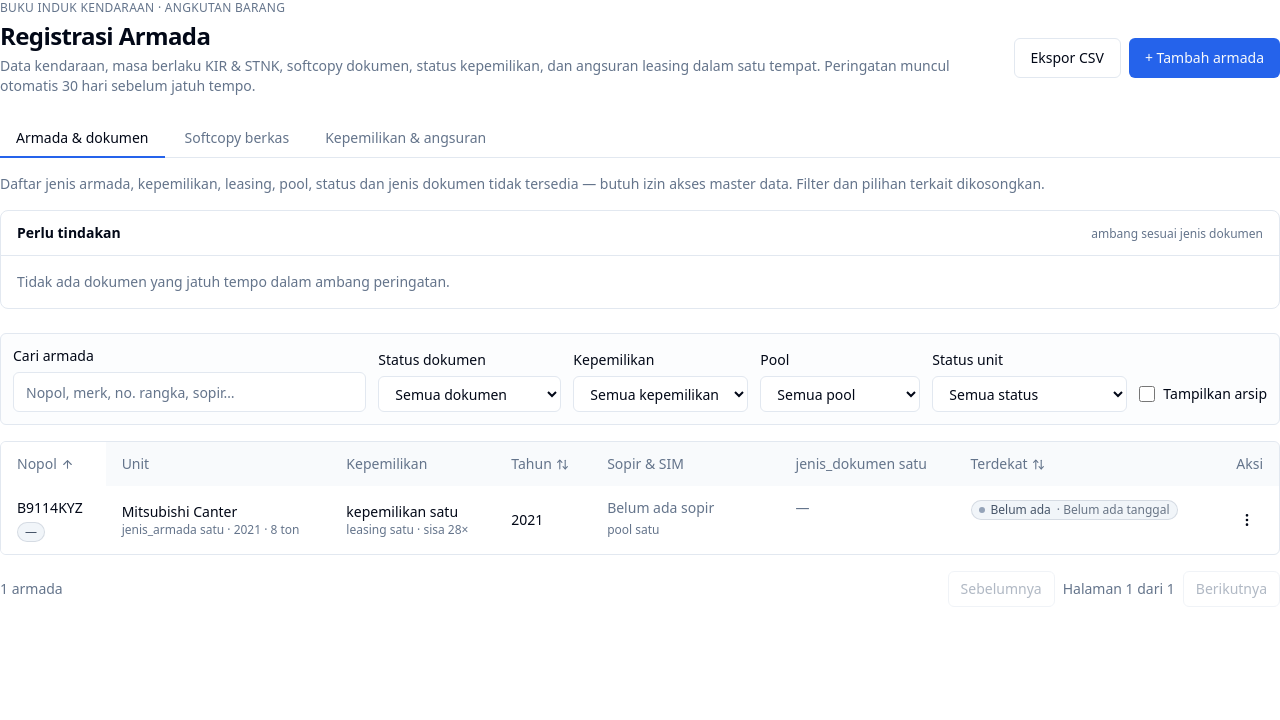
FleetVehiclesPage › files and instalments tabs › reports a failed fetch inside the dialog
Click the tab "Softcopy berkas": (237, 139) top-left (168, 120), bottom-right (305, 158)
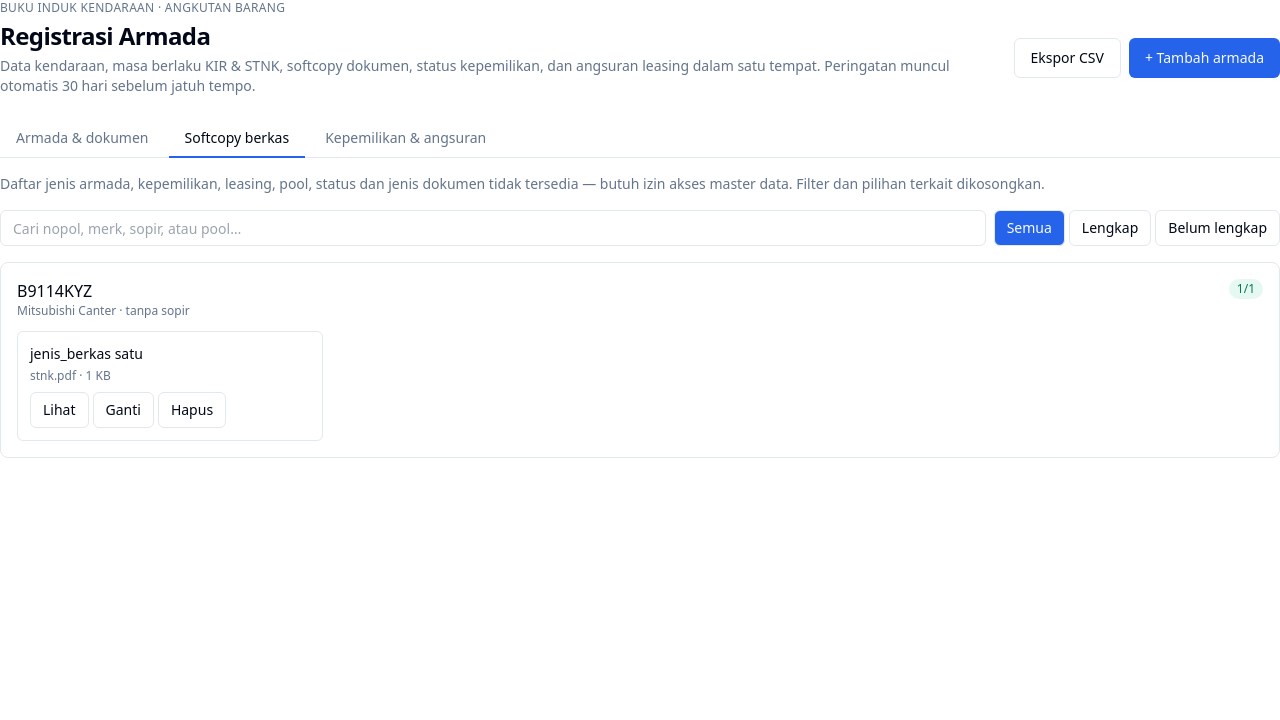
Click the button "Lihat": (59, 410) top-left (30, 392), bottom-right (88, 428)
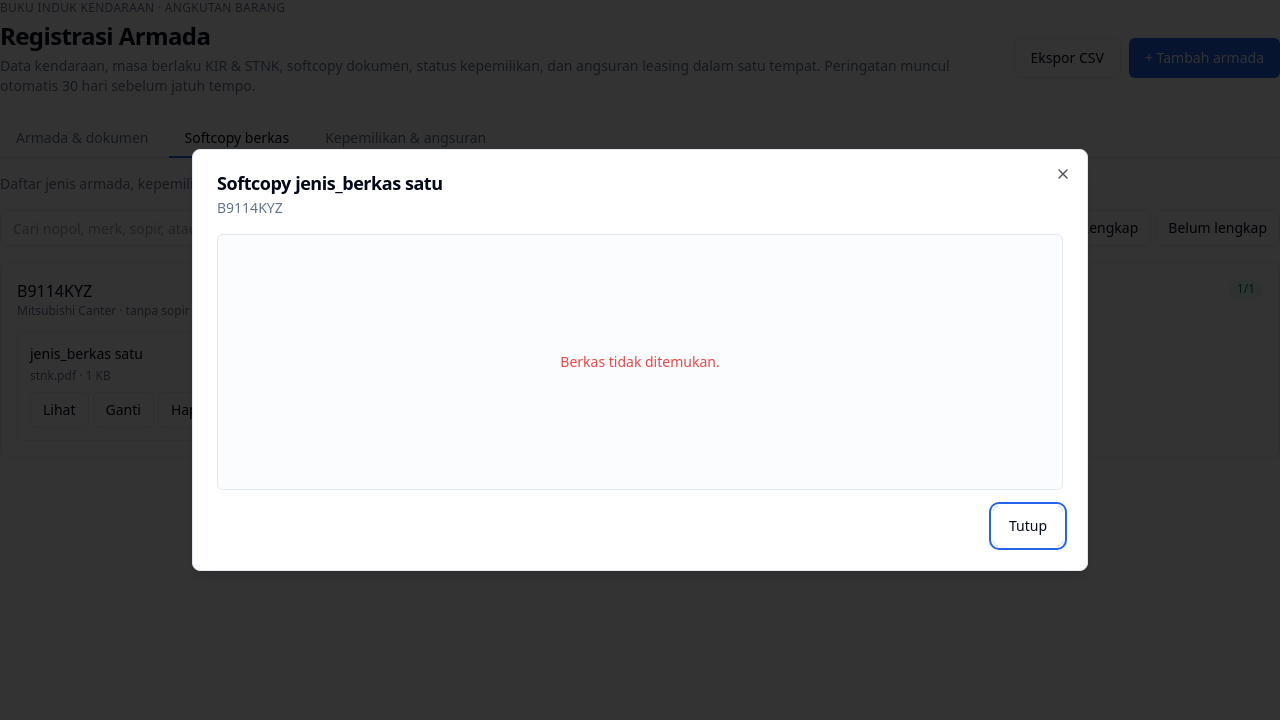
Result: the text "Berkas tidak ditemukan." is shown at top-left (560, 352), bottom-right (720, 371)
